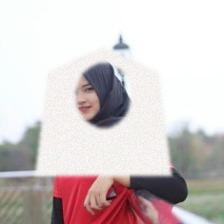Mukena: (34, 46, 172, 176)
